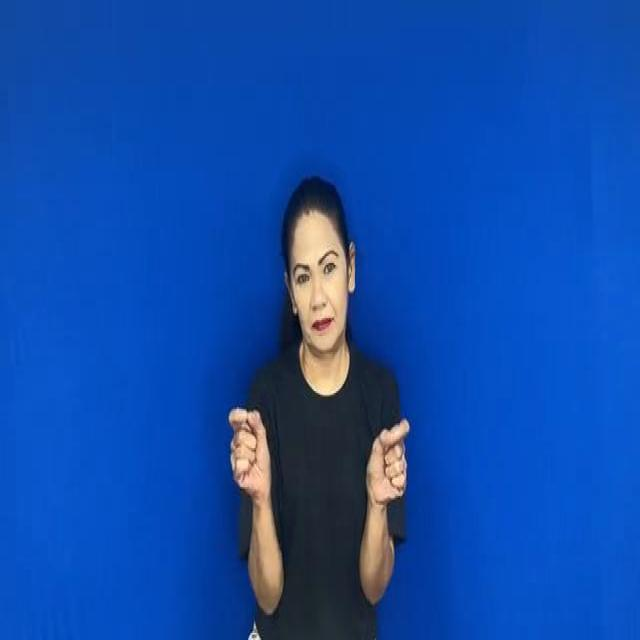crab: (226, 399, 282, 499), (361, 410, 420, 504)
